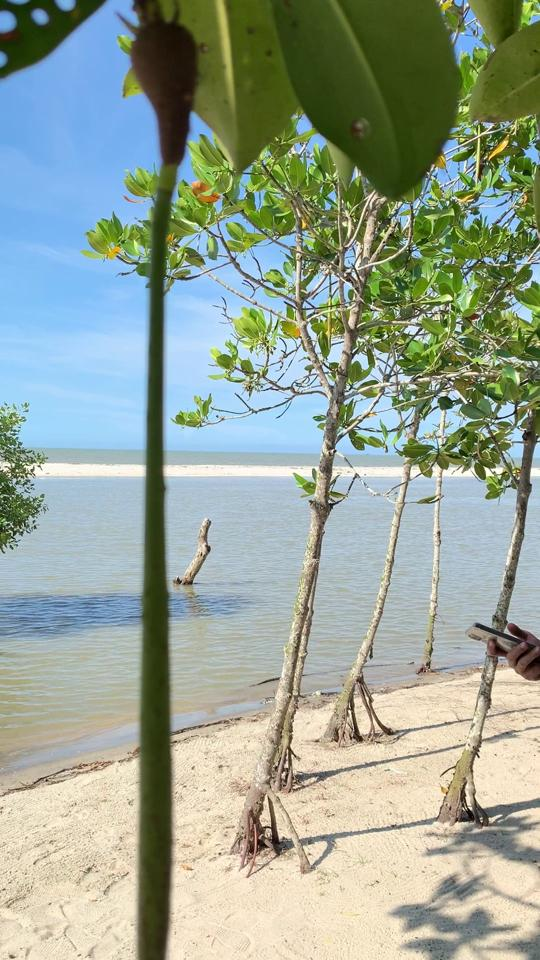setengah matang: (104, 4, 198, 959)
